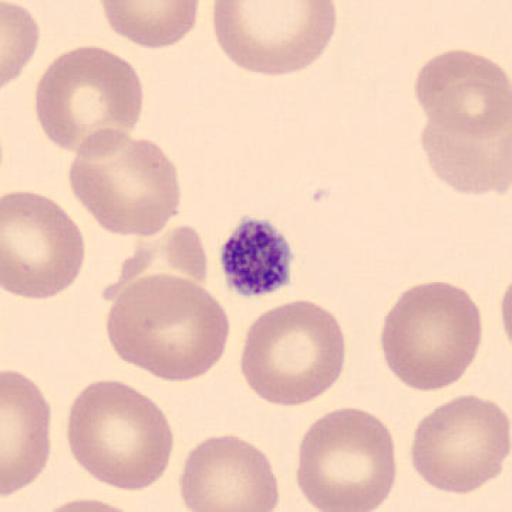Platelet: (217, 214, 295, 299)
RBC: (414, 47, 512, 194), (104, 273, 232, 383), (64, 377, 176, 493), (68, 127, 182, 238), (34, 44, 144, 158), (240, 298, 348, 409), (379, 280, 484, 394), (294, 405, 398, 512), (410, 393, 510, 496), (413, 47, 511, 150), (210, 0, 338, 78), (1, 190, 87, 300), (419, 98, 512, 196), (178, 433, 281, 512), (2, 367, 52, 498), (99, 0, 200, 49), (0, 0, 40, 89), (164, 223, 209, 288), (34, 495, 144, 512), (499, 276, 512, 352)
